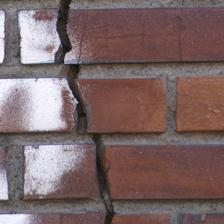Crack: (27, 2, 93, 220)
